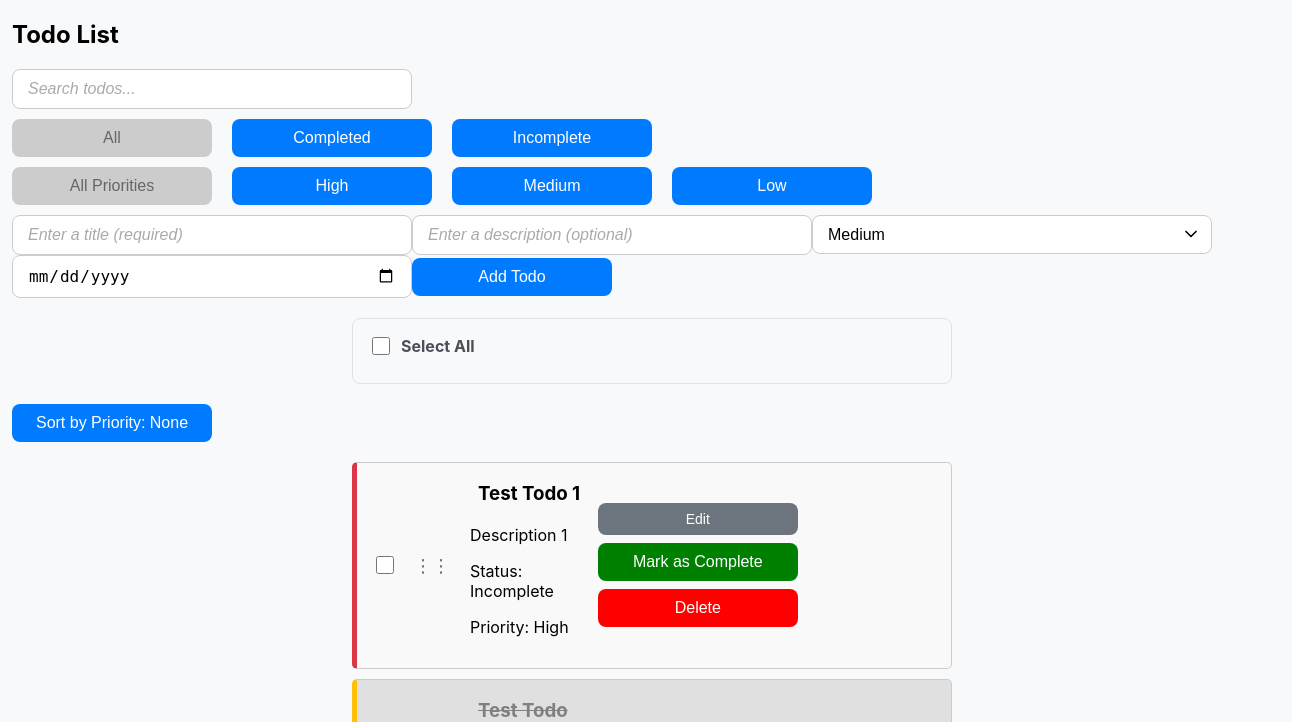
Test: TodoList Component › 一括操作 › 全選択ができる
Expected: the heading "Test Todo 1" is shown, [478,482,580,505]
Click the checkbox labelled "Select All": (381, 346) [372,337,390,355]
(page scrolled)
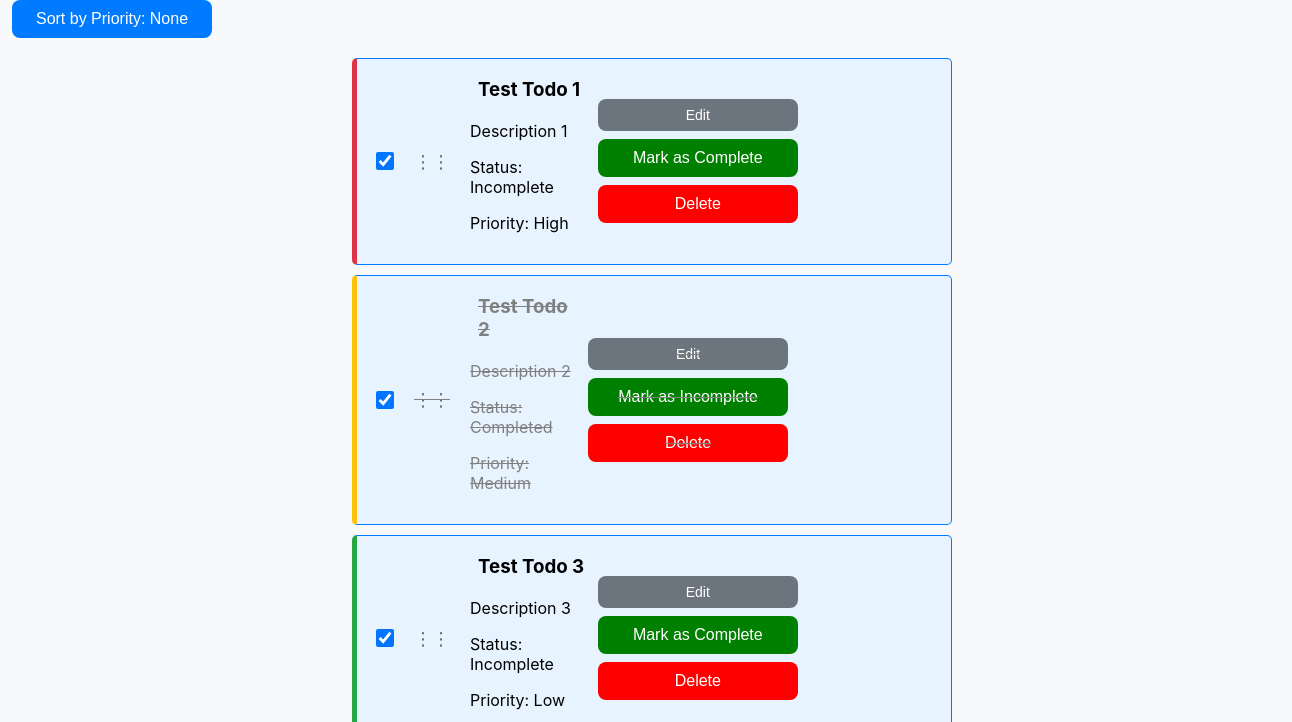
Now the 1st checkbox is checked, box [376,152,394,170]
Now the 2nd checkbox is checked, box [376,391,394,409]
Now the 3rd checkbox is checked, box [376,629,394,647]
